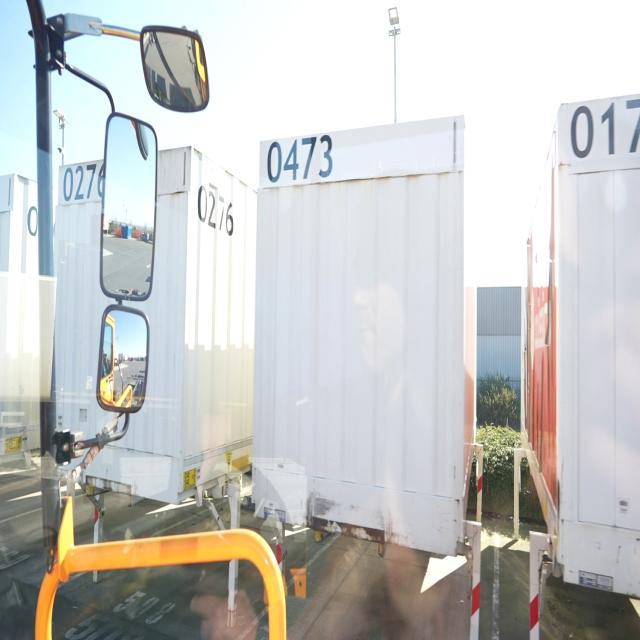Code: (264, 129, 340, 184), (193, 173, 237, 241)
